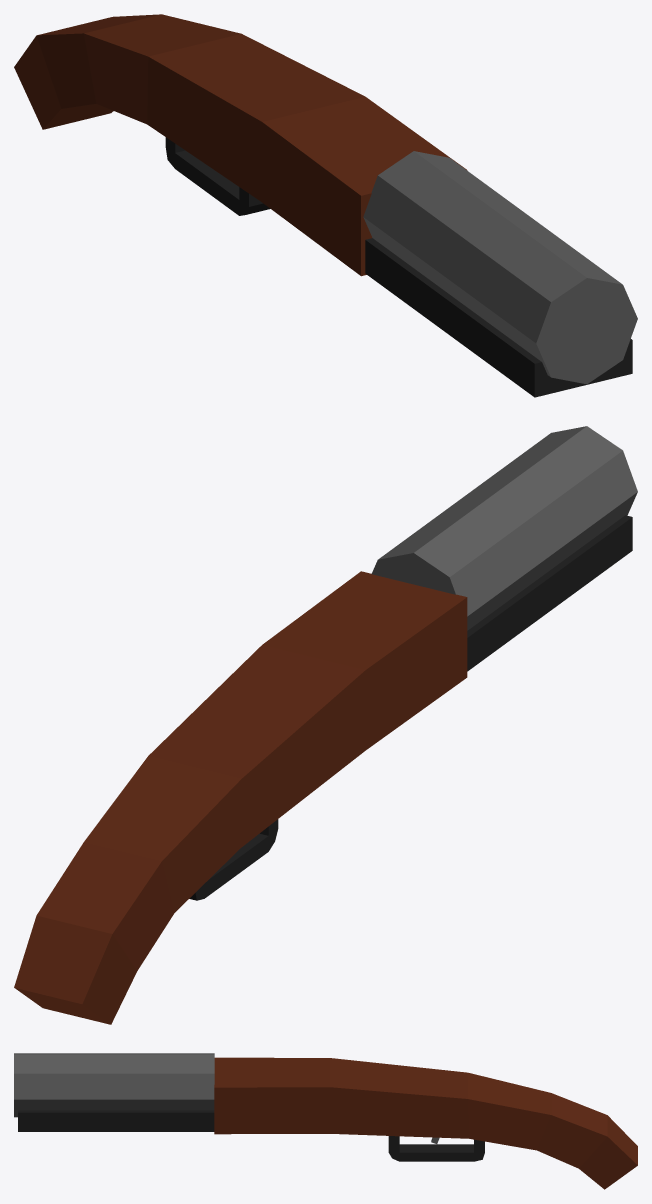
File: MiniShotGun.fbx
3 renders of one model, top to bottom at view 1: azimuth 30°, elevation 25°; view 2: azimuth 150°, elevation 25°; view 3: azimuth 270°, elevation 25°, orthographic. The views are drawn at different scales.
Parts seen in each view (by area): view 1: Bo, Ci, B, Z; view 2: Bo, Ci, B, Z; view 3: Bo, Ci, B, Z.
Boxes of the visible parts, box(x1,y1,x2,y2) form: Bo: box(14, 14, 467, 276); Ci: box(363, 151, 637, 384); B: box(365, 238, 632, 397); Z: box(165, 137, 270, 215); Bo: box(14, 571, 467, 1024); Ci: box(371, 426, 637, 630); B: box(467, 515, 632, 671); Z: box(189, 819, 278, 900); Bo: box(214, 1057, 637, 1189); Ci: box(14, 1053, 214, 1117); B: box(18, 1110, 214, 1131); Z: box(388, 1136, 484, 1161).
Size of the model in its own units: 73.34 by 143 by 645.
